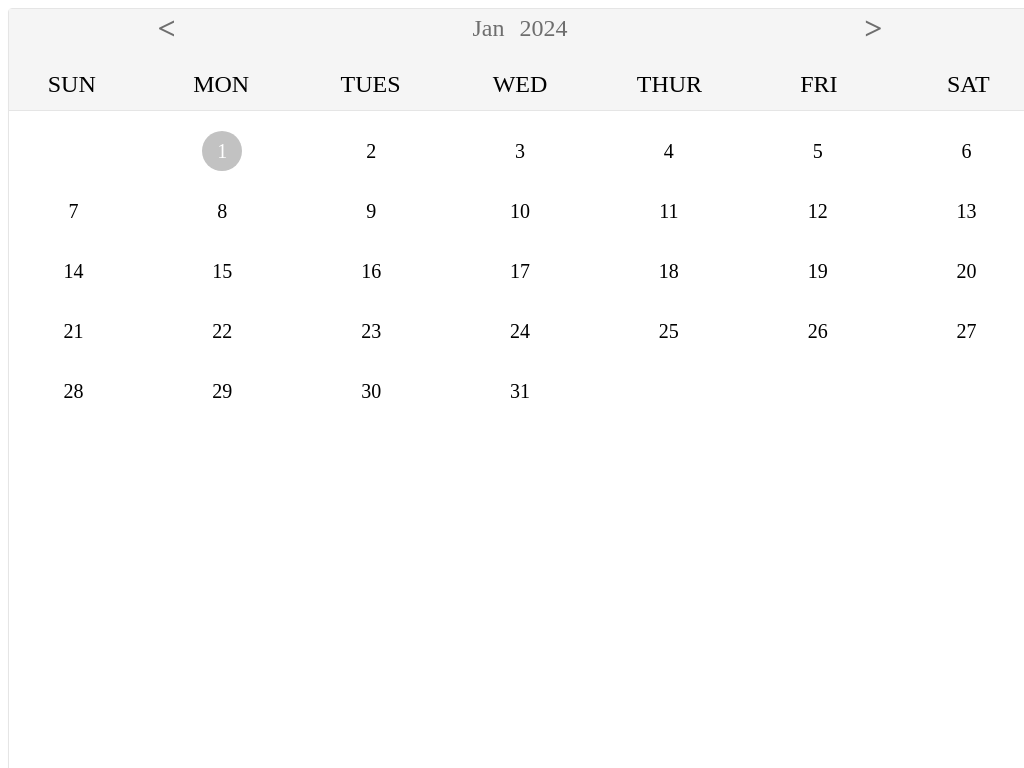
Calendar Component › should go to December when clicking on left arrow from Jan
Expected: the text "Jan" is shown, 472,15 -> 504,41
Click on the right arrow to change the month
Click the text "<" at (166, 28), box 157,10 -> 176,47
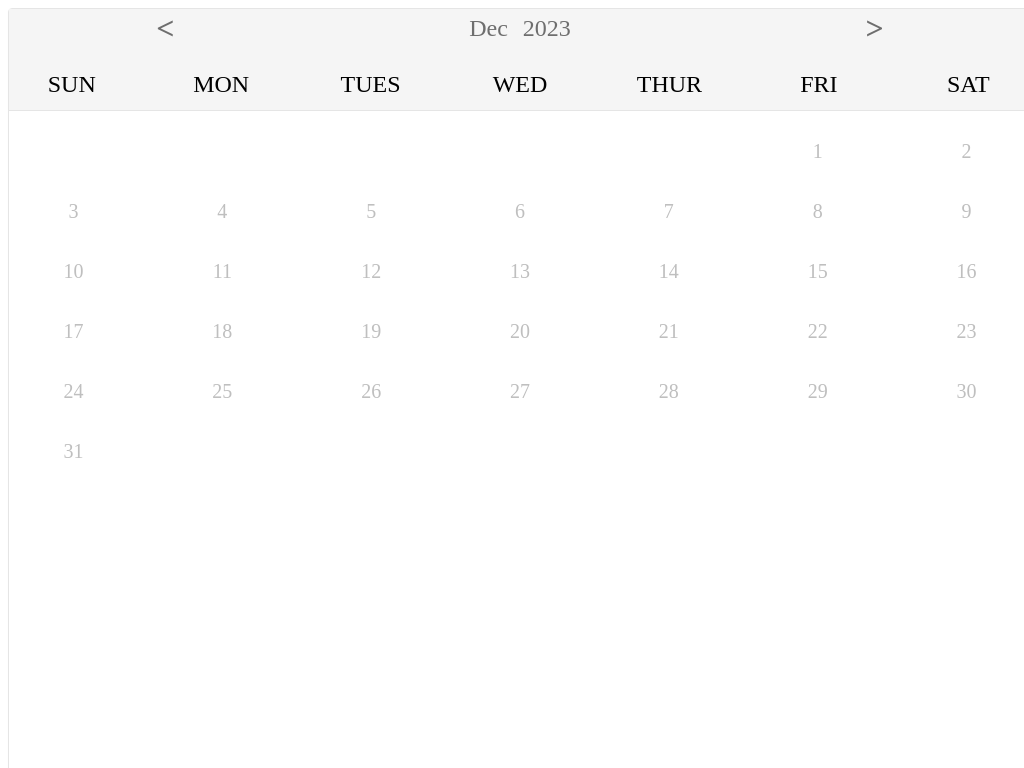
Result: the text "Dec" is shown at 469,15 -> 508,41
